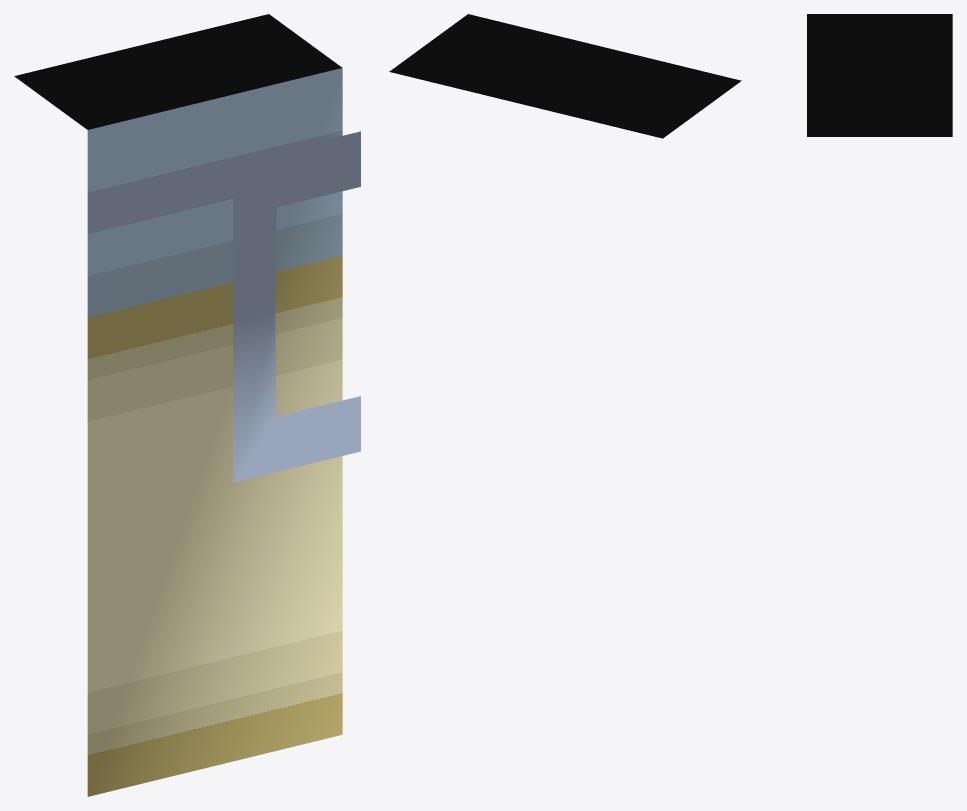
3 views of the same model, side by side, from view 1: azimuth 30°, elevation 25°; view 2: azimuth 150°, elevation 25°; view 3: azimuth 270°, elevation 25° (orthographic). The views are drawn at different scales.
Bounding box in the file's own units: 1 × 2.5 × 0.625.
1 material, 1 textured.
